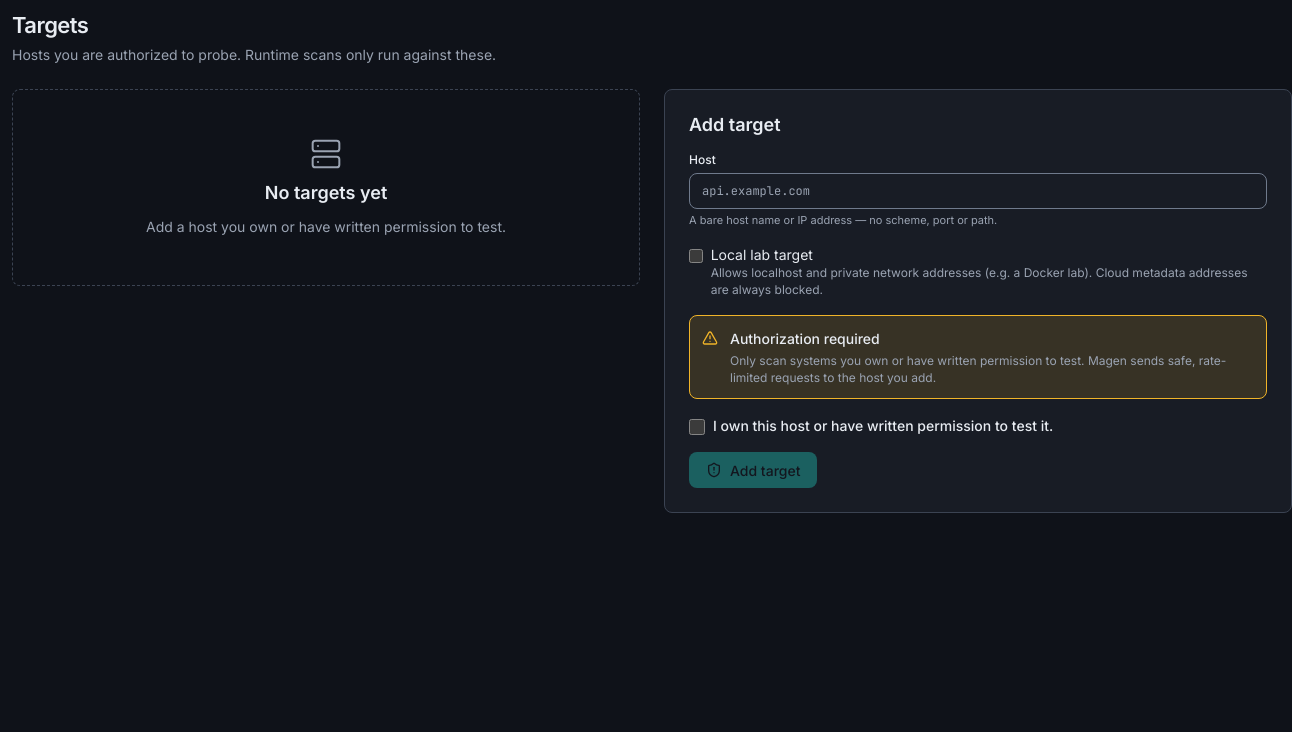
it: TargetsPage › requires the authorization checkbox before a host can be added
The width and height of the screenshot is (1292, 732).
expect the heading "No targets yet" is shown: met, box [265,182,387,204]
Type "127.0.0.1" into the field labelled "Host" at (978, 191), box [689,173,1267,209]
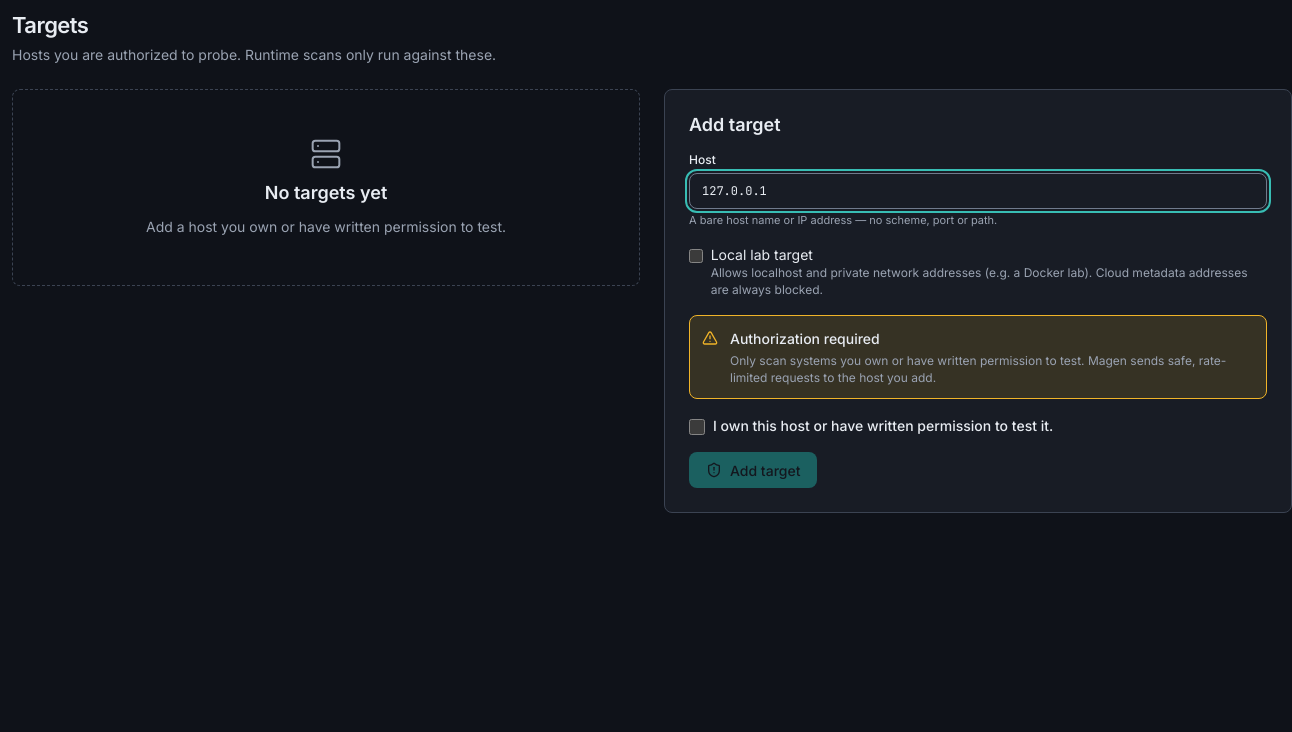
expect the button "Add target" is disabled: met, box [689,452,818,488]
expect the text "Only scan systems you own" is shown: met, box [730,353,1226,385]
Click the checkbox labelled "Local lab target" at (696, 256), box [689,248,703,264]
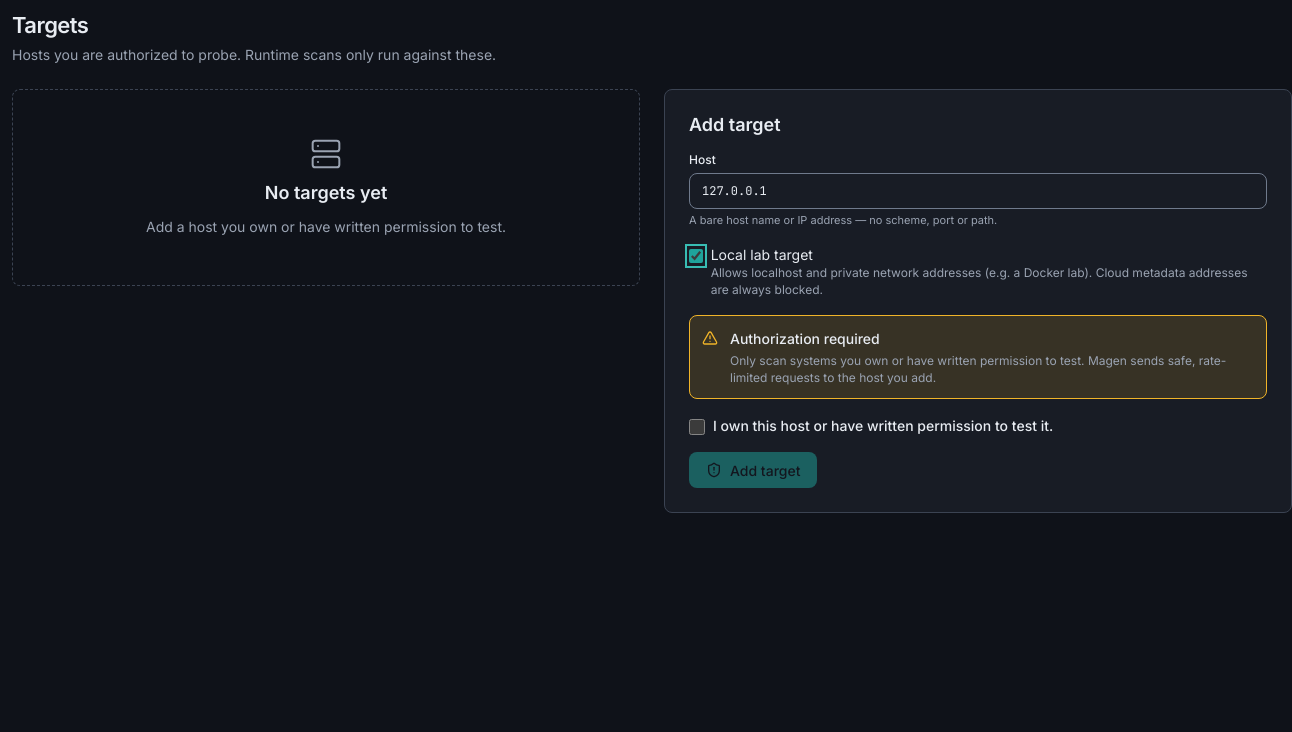
Click the checkbox labelled "I own this host or have written permission to test it." at (697, 427), box [689,419,705,435]
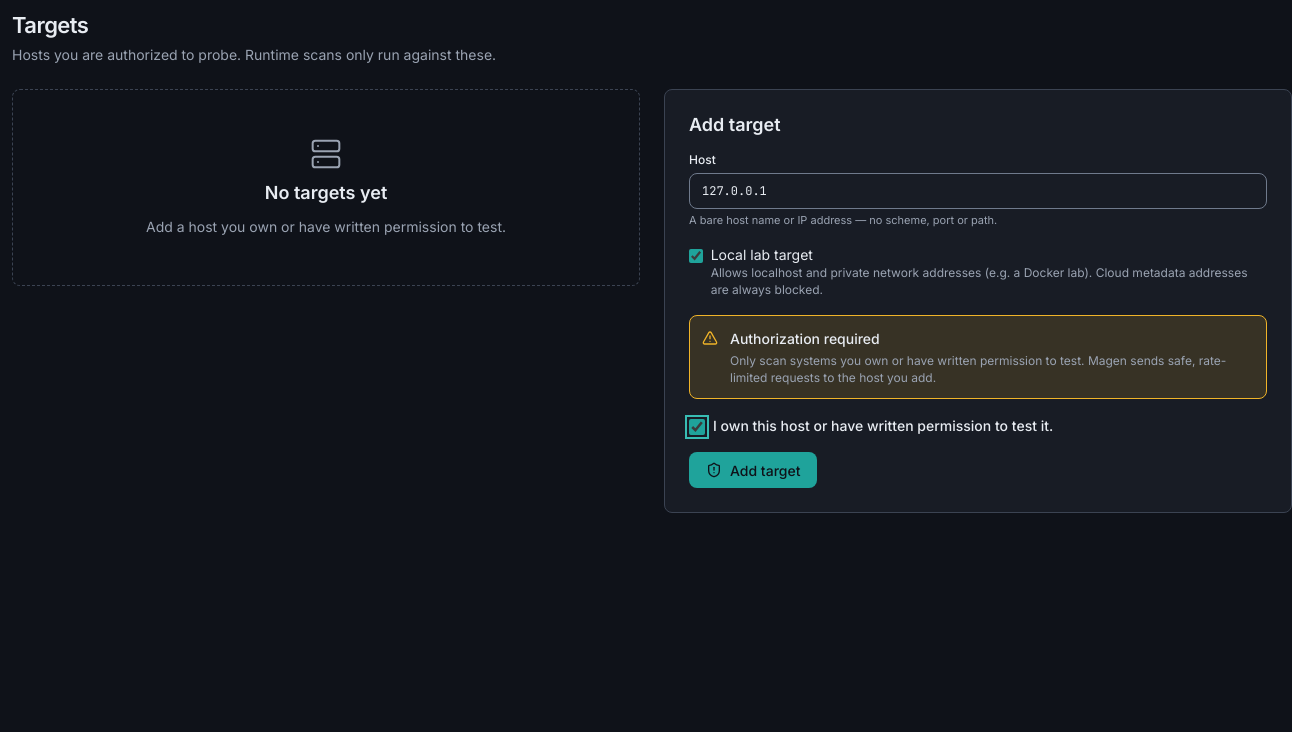
Click the button "Add target" at (753, 470), box [689,452,818,488]
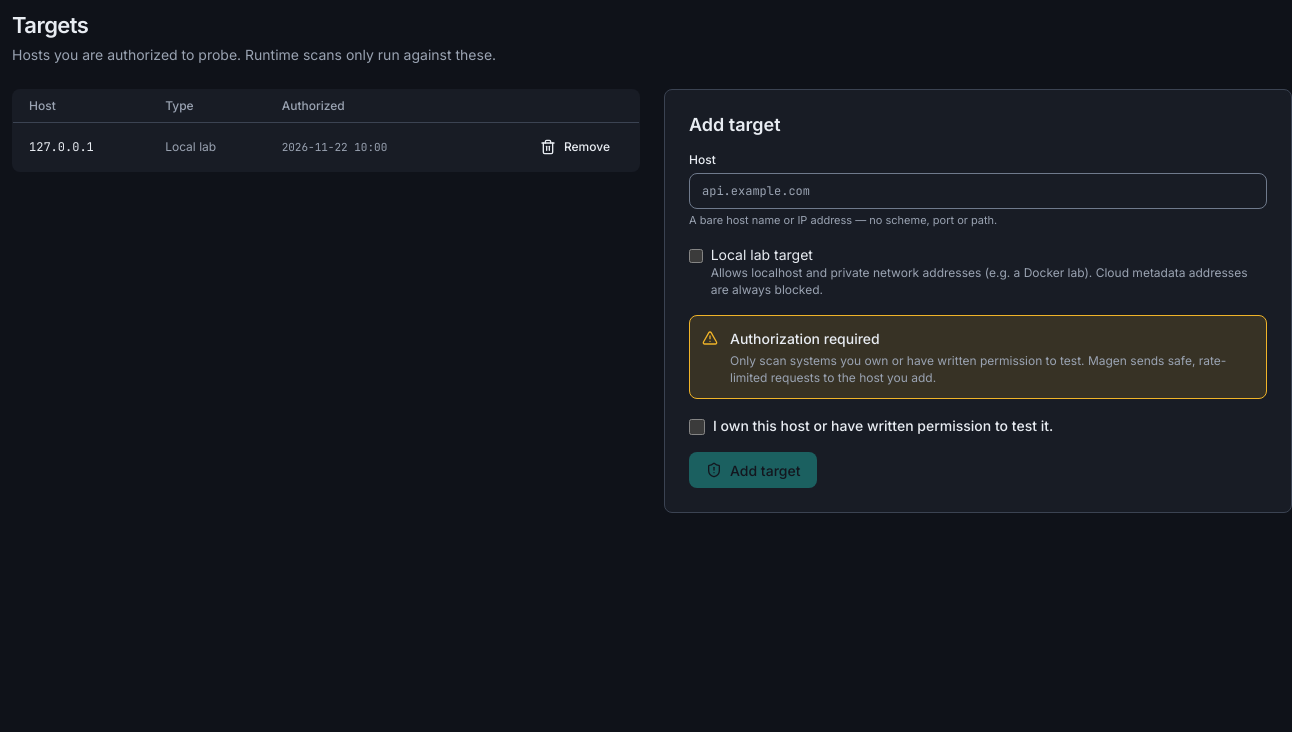
expect the cell "127.0.0.1" is shown: met, box [12,123,149,172]
